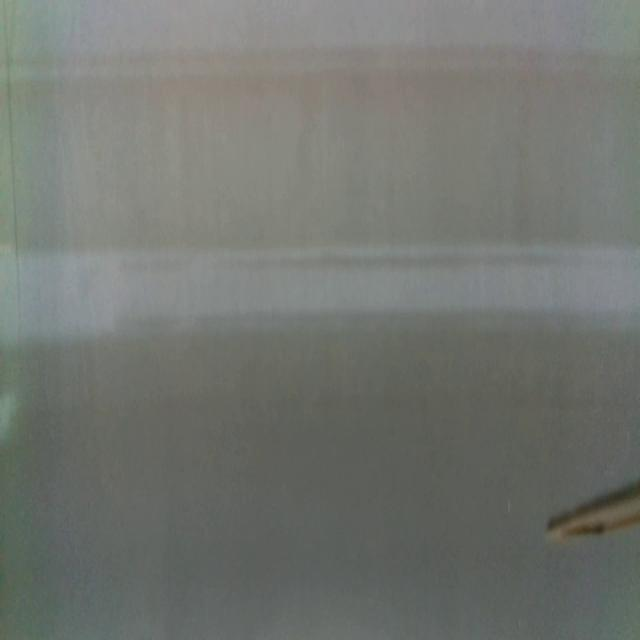color bleeding: (0, 32, 640, 282)
crease: (5, 16, 23, 336)
